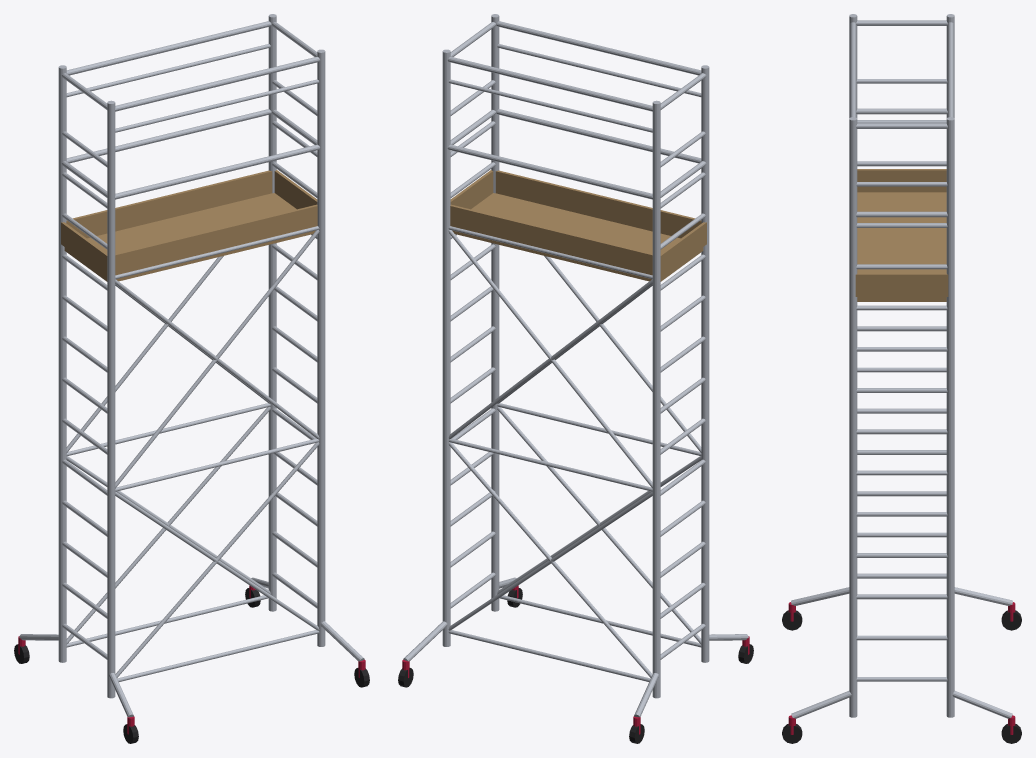
Rendered from krause_corda_4200.dae.
3 renders of one model, left to right at view 1: azimuth 30°, elevation 25°; view 2: azimuth 150°, elevation 25°; view 3: azimuth 270°, elevation 25°, orthographic.
Visible parts, largest first — view 1: alu, wood, dark; view 2: alu, wood, dark; view 3: alu, wood, dark, red.
Boxes of the visible parts, x1=… form: alu: x1=19, y1=14, x2=364, y2=717; wood: x1=61, y1=170, x2=317, y2=281; dark: x1=14, y1=588, x2=369, y2=743; alu: x1=403, y1=14, x2=748, y2=717; wood: x1=450, y1=170, x2=706, y2=281; dark: x1=398, y1=588, x2=753, y2=743; alu: x1=791, y1=14, x2=1012, y2=718; wood: x1=855, y1=169, x2=948, y2=301; dark: x1=782, y1=610, x2=1021, y2=743; red: x1=788, y1=602, x2=1015, y2=734.
Bounding box in the file's own units: 1.7 × 1.48 × 4.2.
